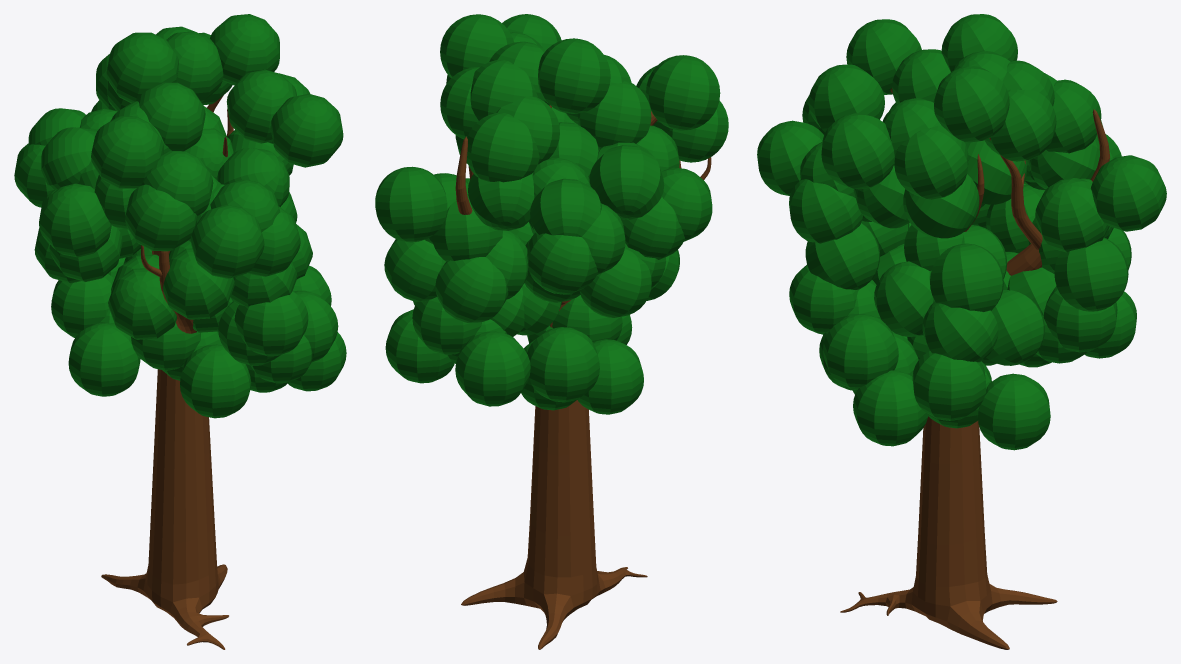
Rendered from tree1.fbx.
The picture shows the model from 3 angles, left to right: view 1: azimuth 30°, elevation 25°; view 2: azimuth 150°, elevation 25°; view 3: azimuth 270°, elevation 25°; orthographic projection. The views are drawn at different scales.
Parts seen in each view (by area): view 1: Sphere, Cylinder; view 2: Sphere, Cylinder; view 3: Sphere, Cylinder.
Part boxes in pixels (box(x1,y1,x2,y2)): Sphere: box(14, 14, 346, 418); Cylinder: box(101, 95, 233, 649); Sphere: box(375, 14, 728, 414); Cylinder: box(455, 105, 711, 649); Sphere: box(757, 14, 1166, 450); Cylinder: box(840, 88, 1109, 649).
Size of the model in its own units: 378 by 726 by 458.
